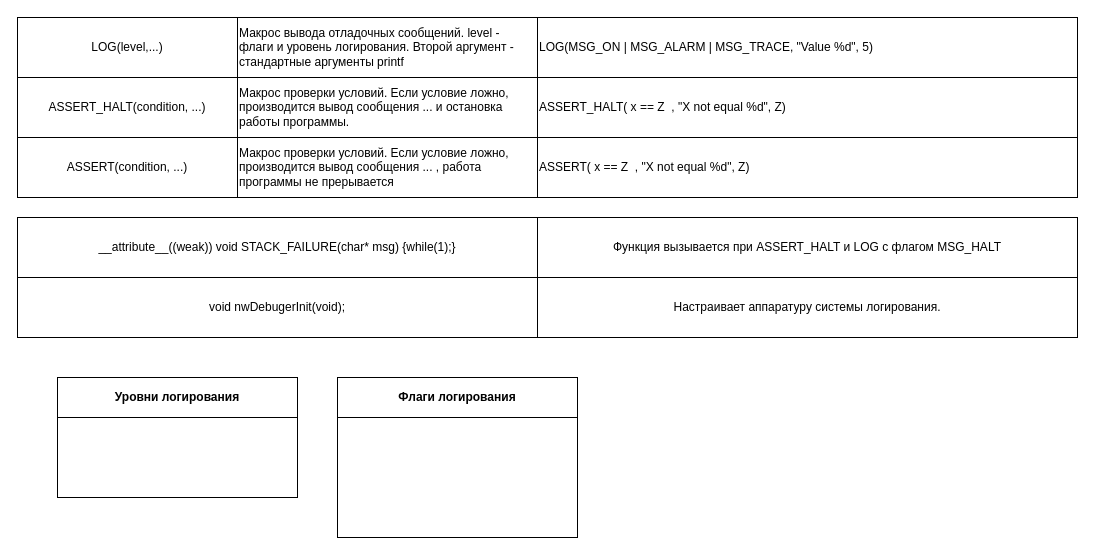
Some shapes in this 1095 by 555 pixel diagram are drawn without their labels. Each missing label, with the centre of its shape:
MSG_INFO MSG_WARNING MSG_ALARM: point (177, 457)
MSG_TRACE MSG_STATE MSG_FRESH MSG_HALT MSG_ON MSG_OFF: point (457, 477)
